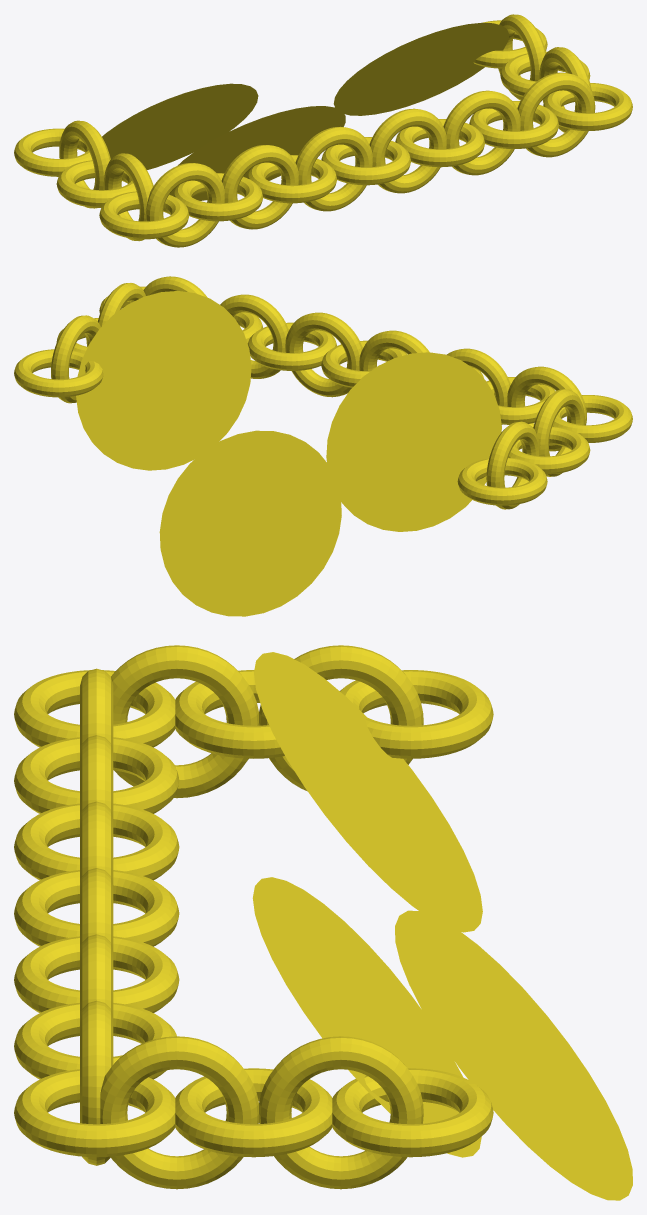
File: Schmuck_Gold.fbx
3 views of the same model, one above another, from view 1: azimuth 30°, elevation 25°; view 2: azimuth 150°, elevation 25°; view 3: azimuth 270°, elevation 25° (orthographic). The views are drawn at different scales.
Parts seen in each view (by area): view 1: Circle.001, Circle.002, Circle, Torus.015, Torus.005, Torus.013, Torus.007, Torus.011, Torus.009, Torus.016, Torus.002, Torus.012 (+12 smaller); view 2: Circle, Circle.001, Circle.002, Torus.009, Torus.020, Torus, Torus.008, Torus.016, Torus.019, Torus.007, Torus.018, Torus.017 (+9 smaller); view 3: Circle, Circle.002, Circle.001, Torus.001, Torus.003, Torus, Torus.017, Torus.002, Torus.004, Torus.020, Torus.012, Torus.014 (+12 smaller).
Boxes of the visible parts, x1,y1,x2,y2 form: Circle.001: (333, 22, 509, 115); Circle.002: (102, 83, 258, 169); Circle: (169, 106, 345, 200); Torus.015: (146, 163, 224, 247); Torus.005: (517, 72, 595, 157); Torus.013: (221, 145, 298, 229); Torus.007: (443, 90, 520, 175); Torus.011: (295, 126, 372, 211); Torus.009: (369, 108, 446, 193); Torus.016: (99, 191, 189, 239); Torus.002: (543, 83, 632, 130); Torus.012: (247, 155, 336, 203); Circle: (159, 430, 341, 616); Circle.001: (76, 291, 251, 470); Circle.002: (326, 352, 501, 531); Torus.009: (285, 312, 362, 397); Torus.020: (457, 457, 547, 505); Torus: (14, 349, 103, 397); Torus.008: (248, 322, 336, 370); Torus.016: (552, 395, 632, 442); Torus.019: (486, 421, 540, 509); Torus.007: (220, 294, 288, 378); Torus.018: (508, 426, 590, 474); Torus.017: (533, 389, 584, 476); Circle: (395, 910, 632, 1200); Circle.002: (254, 652, 482, 932); Circle.001: (252, 877, 481, 1157); Torus.001: (259, 1036, 423, 1189); Torus.003: (100, 1036, 258, 1189); Torus: (332, 1068, 493, 1157); Torus.017: (111, 645, 258, 798); Torus.002: (14, 1069, 175, 1157); Torus.004: (175, 1068, 332, 1157); Torus.020: (340, 670, 493, 758); Torus.012: (14, 803, 179, 880); Torus.014: (14, 737, 179, 813).
Bounding box in the file's own units: 263 × 104 × 147.
